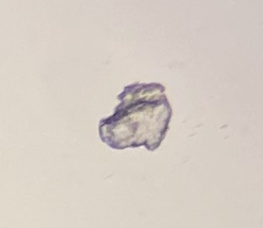microplastic: (99, 82, 172, 151)
